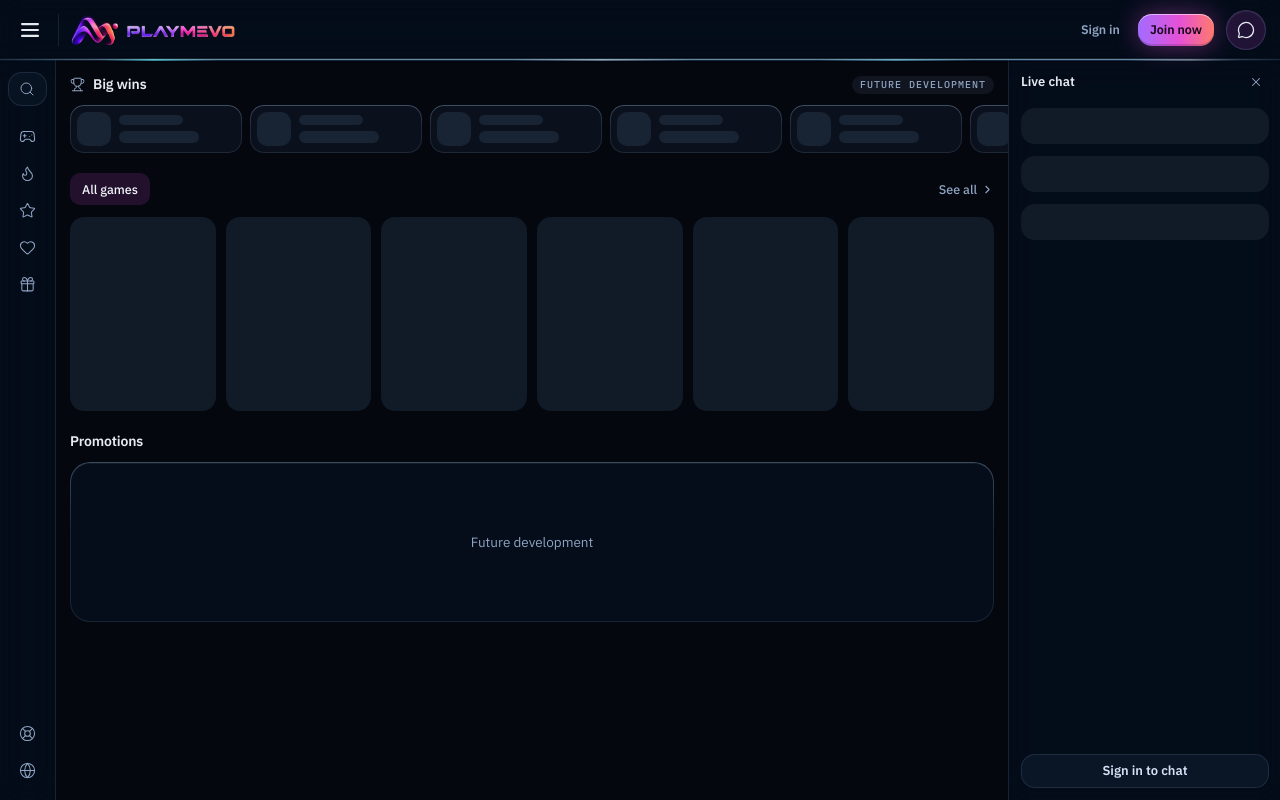
Test: the navigation rail › asks a guest to sign in before opening Favorites
Step 1. Click the button named "Favorites" → (28, 247), box [8,229,47,265]
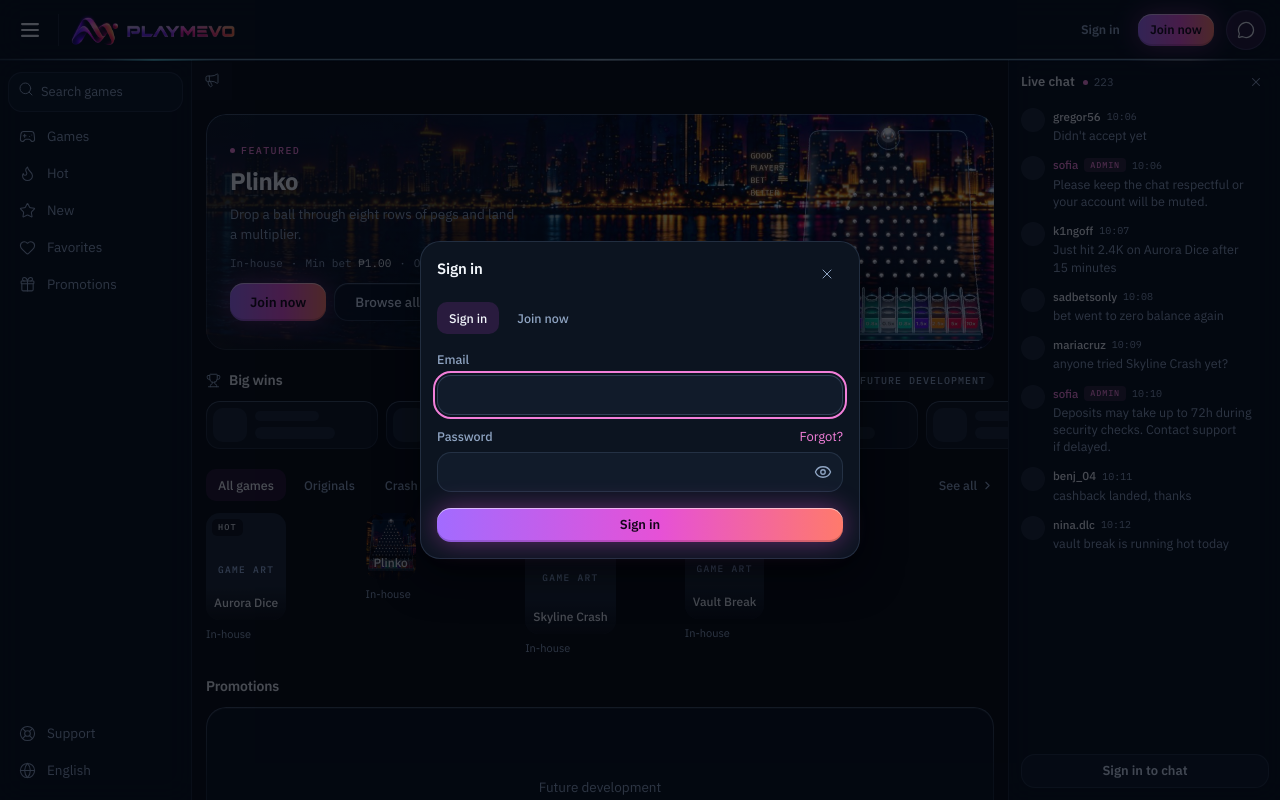
Check: the dialog "Sign in" is shown, box [420,241,860,559]
